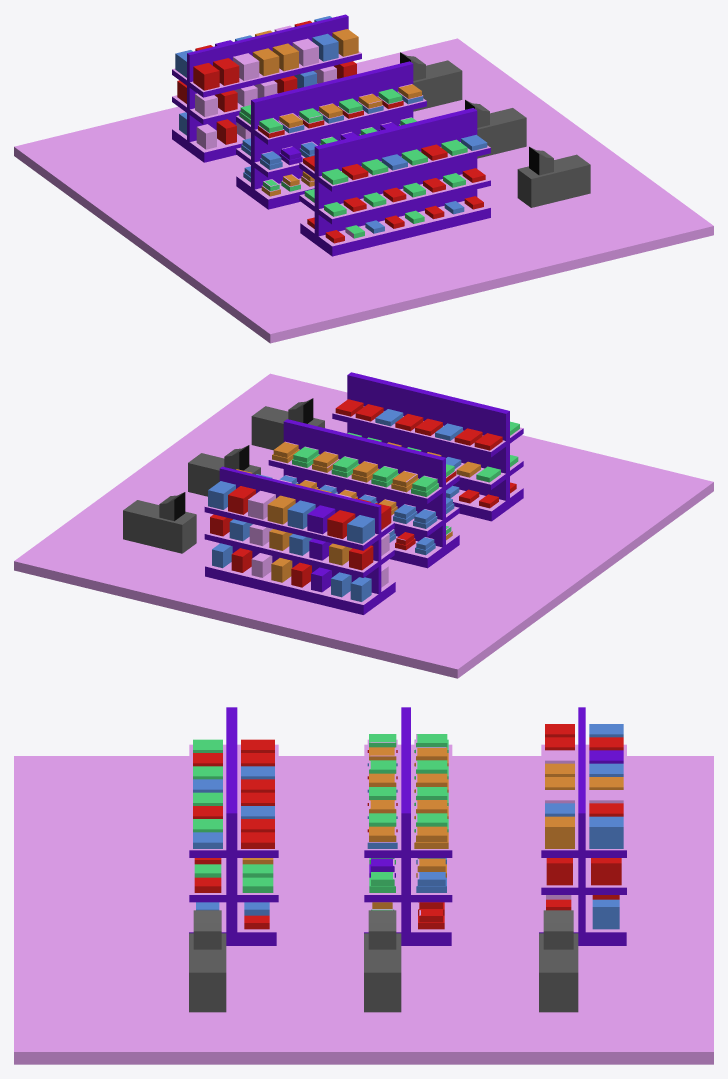
File: Box area.fbx
3 views of the same model, one above another, from view 1: azimuth 30°, elevation 25°; view 2: azimuth 150°, elevation 25°; view 3: azimuth 270°, elevation 25° (orthographic). The views are drawn at different scales.
Parts seen in each view (by area): view 1: cloth shop; view 2: cloth shop; view 3: cloth shop.
Boxes of the visible parts, left/top/right/bottom form: cloth shop: left=14, top=14, right=713, bottom=343; cloth shop: left=14, top=372, right=713, bottom=678; cloth shop: left=14, top=707, right=713, bottom=1064.
Bounding box in the file's own units: 1000 × 229 × 1000.
